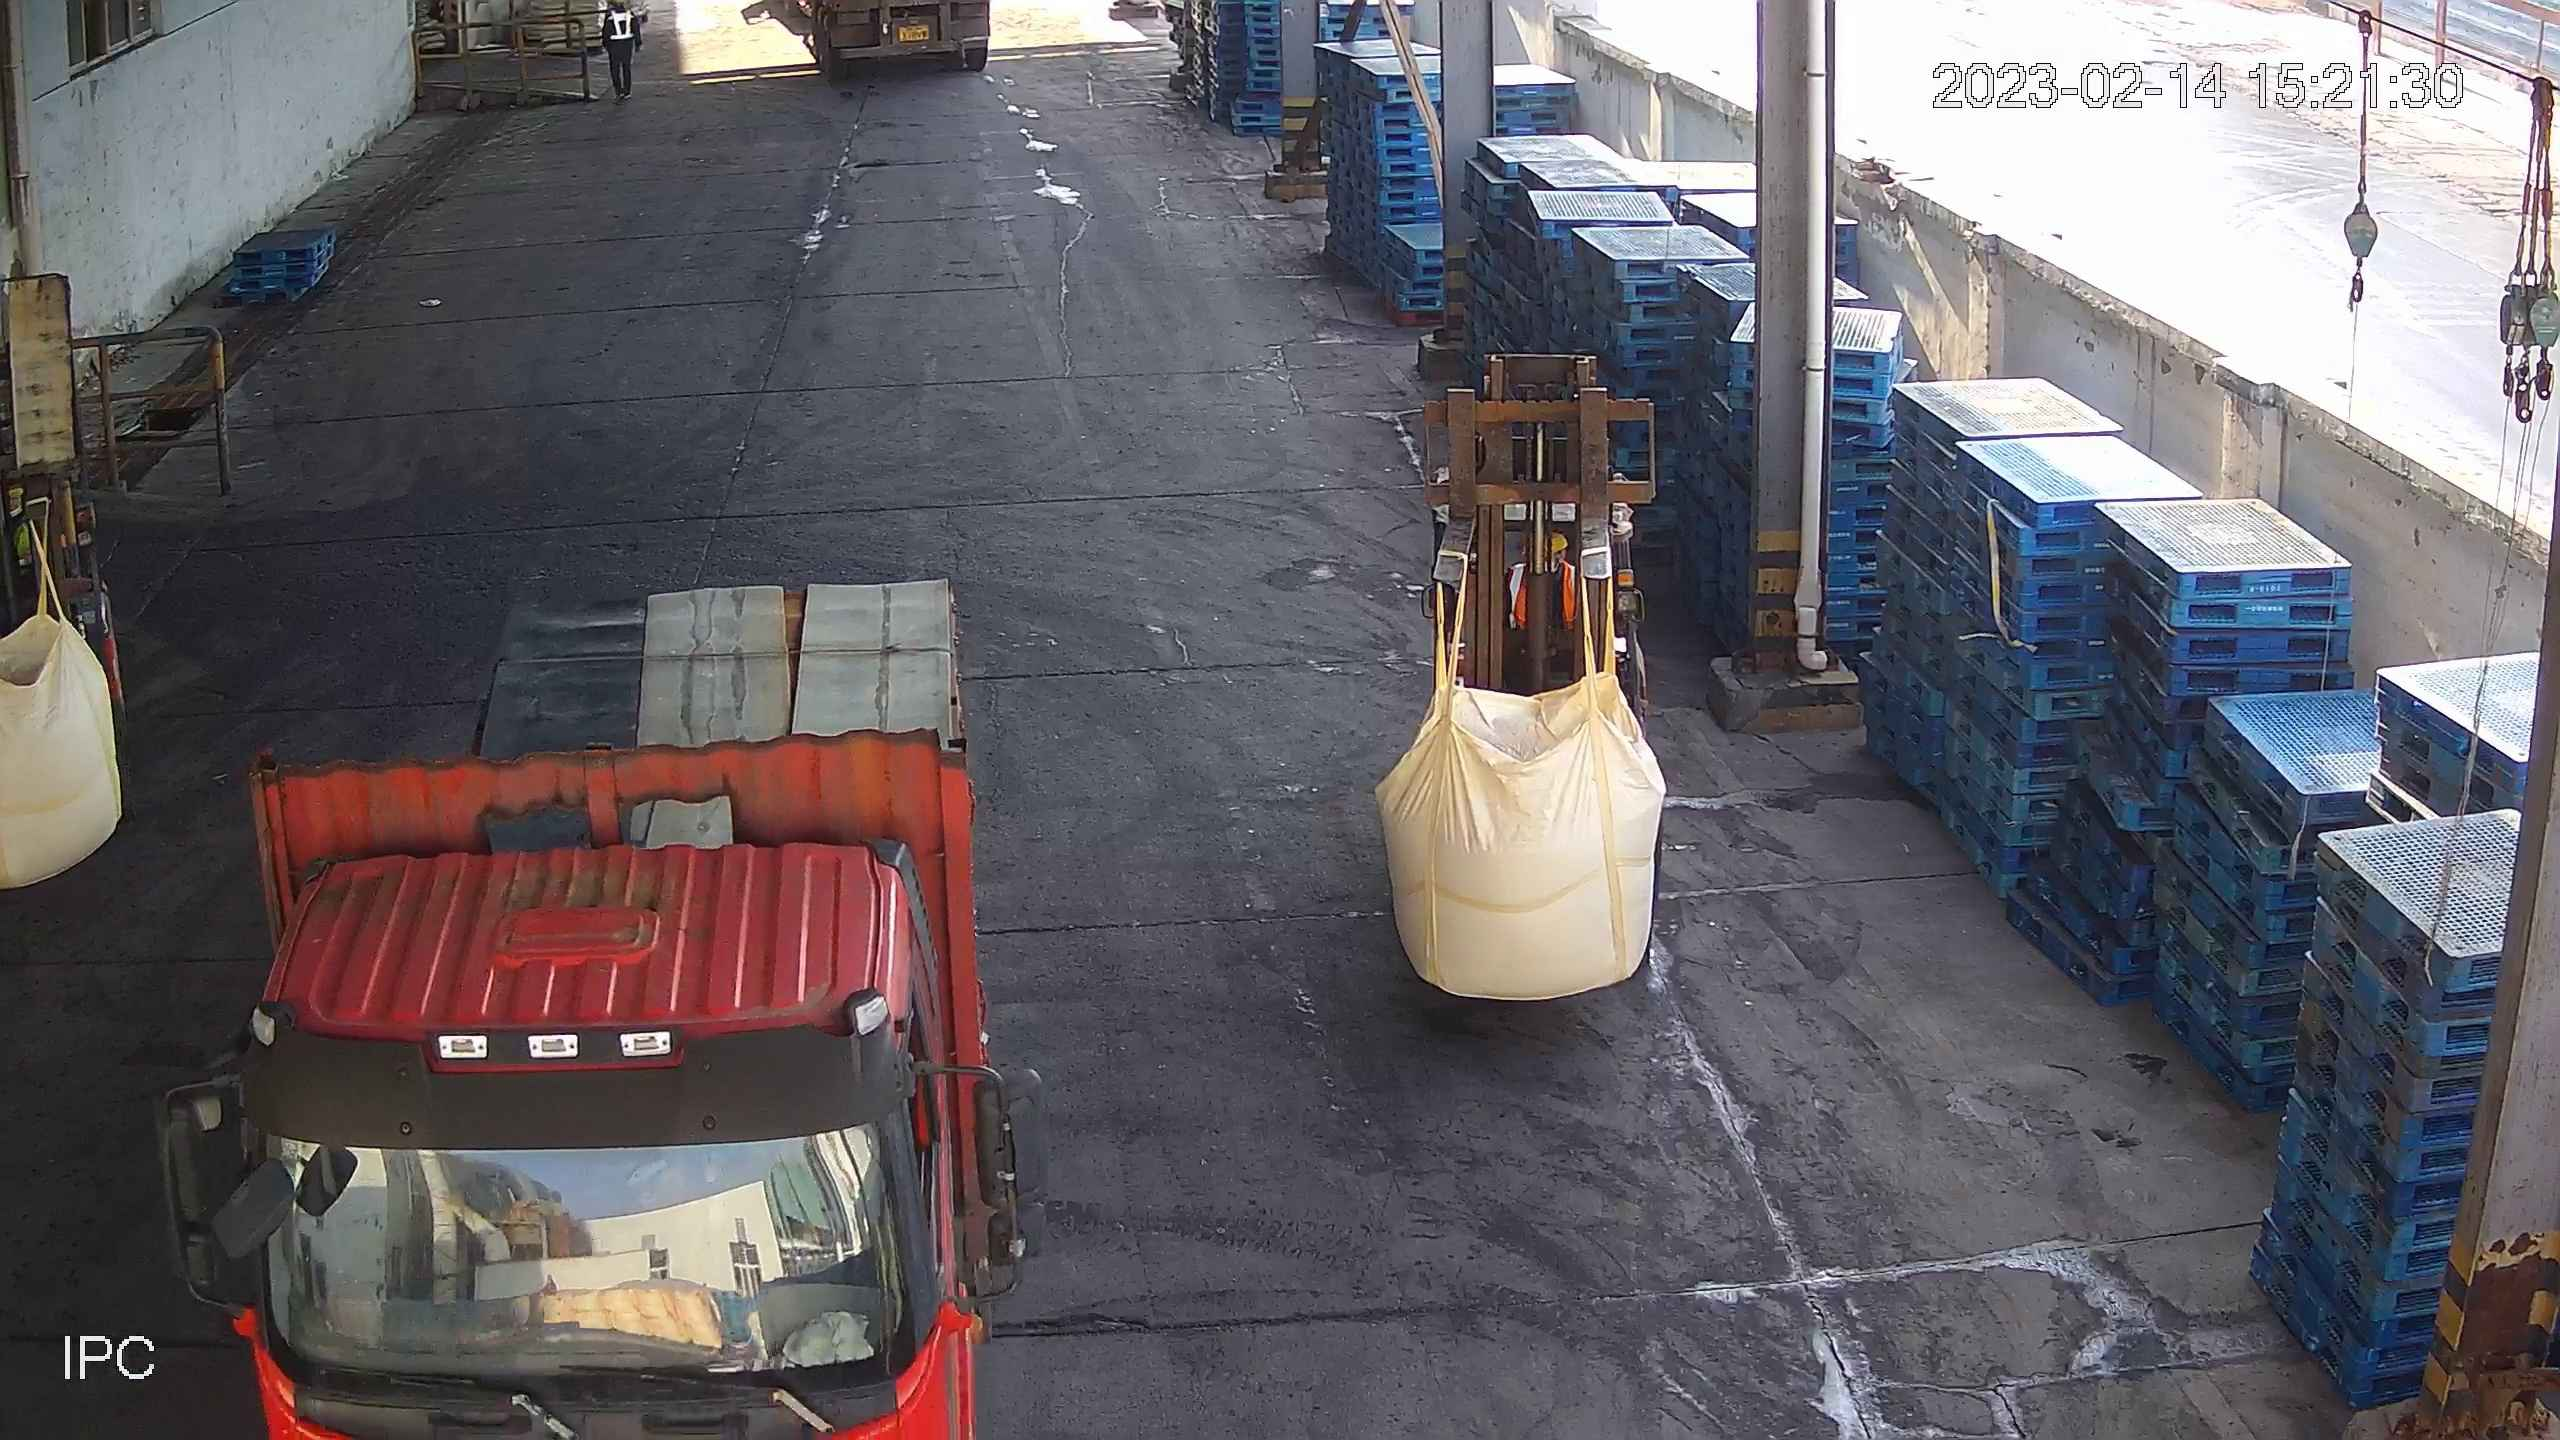truck: (156, 570, 1039, 1440)
